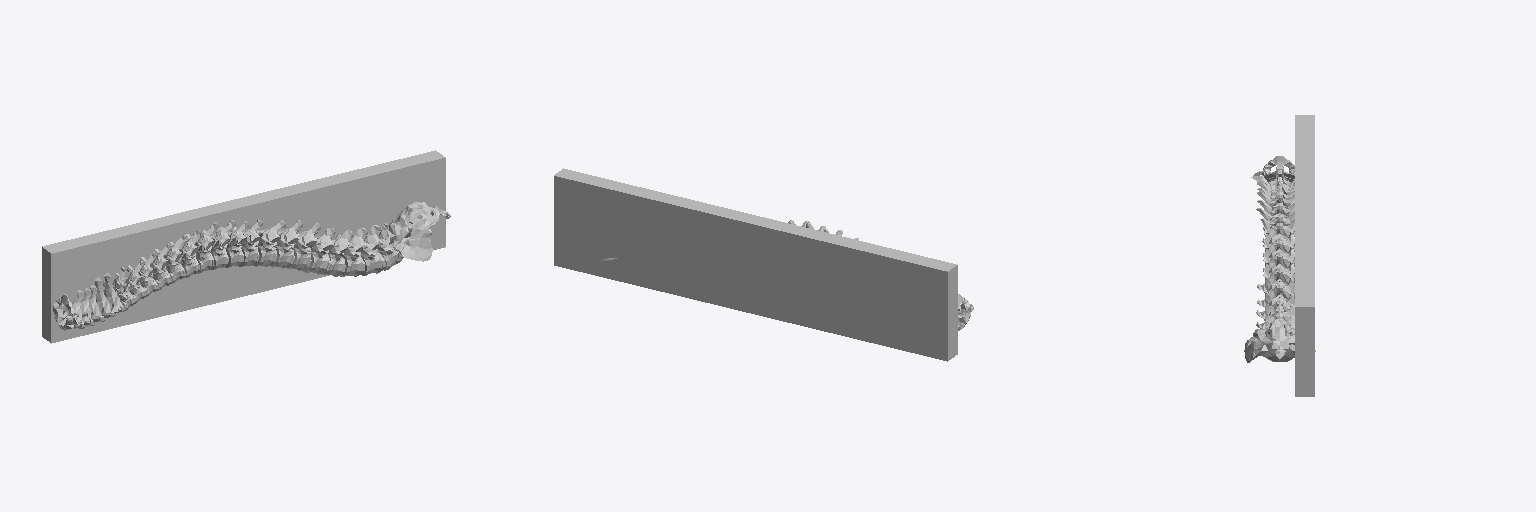
Rendered from PaletteG.obj.
3 views of the same model, side by side, from view 1: azimuth 30°, elevation 25°; view 2: azimuth 150°, elevation 25°; view 3: azimuth 270°, elevation 25° (orthographic).
Parts seen in each view (by area): view 1: Cube_Cube.001, atlas_atlas.000_atlas_atlas.000; view 2: Cube_Cube.001, atlas_atlas.000_atlas_atlas.000; view 3: atlas_atlas.000_atlas_atlas.000, Cube_Cube.001.
Boxes of the visible parts, <box> form: Cube_Cube.001: <box>42,150,445,343</box>; atlas_atlas.000_atlas_atlas.000: <box>53,201,450,330</box>; Cube_Cube.001: <box>554,168,957,361</box>; atlas_atlas.000_atlas_atlas.000: <box>600,220,973,330</box>; atlas_atlas.000_atlas_atlas.000: <box>1244,156,1315,362</box>; Cube_Cube.001: <box>1295,115,1314,396</box>.
Size of the model in its own units: 72.76 by 15.84 by 11.39.